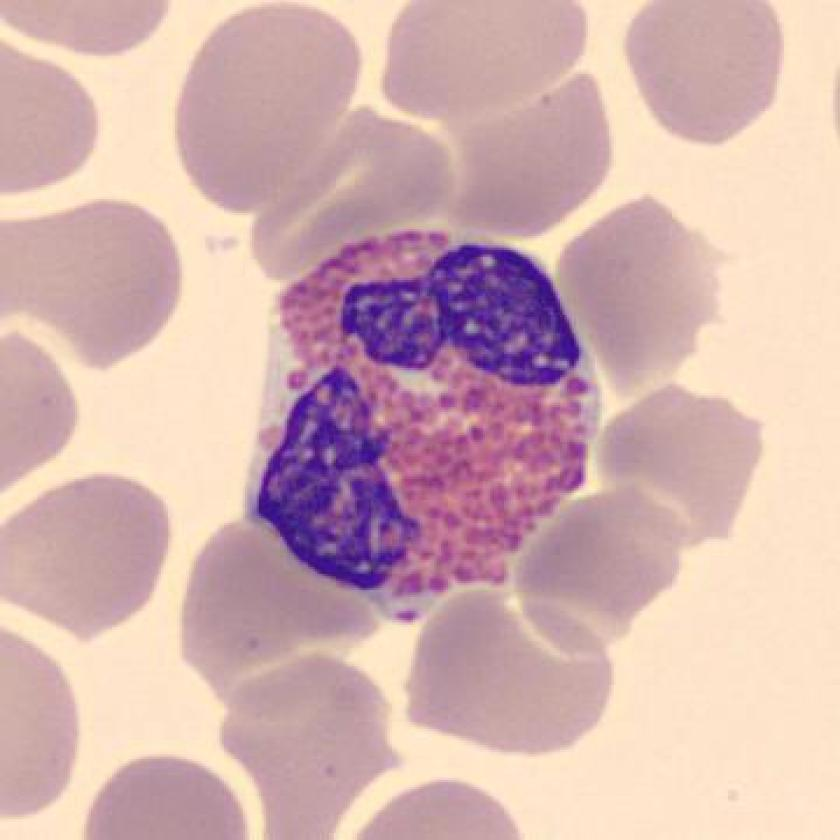eosinophil: (220, 221, 629, 626)
